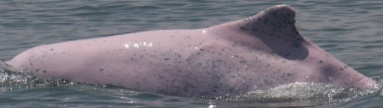fin: (6, 3, 379, 98)
